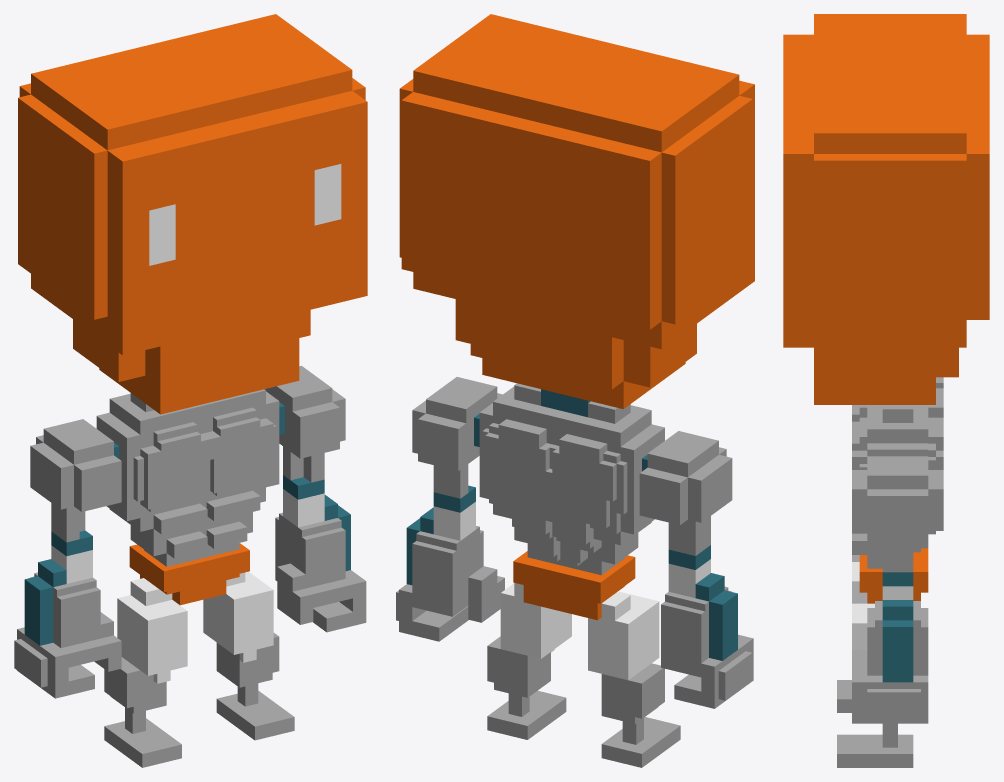
The model's file is PlayerOrangeWhole-0-PlayerOrange_Whole.obj.
The picture shows the model from 3 angles, left to right: view 1: azimuth 30°, elevation 25°; view 2: azimuth 150°, elevation 25°; view 3: azimuth 270°, elevation 25°; orthographic projection.
Parts seen in each view (by area): view 1: PlayerOrange_Whole; view 2: PlayerOrange_Whole; view 3: PlayerOrange_Whole.
Boxes of the visible parts, left/top/right/bottom form: PlayerOrange_Whole: left=14, top=14, right=367, bottom=767; PlayerOrange_Whole: left=396, top=14, right=754, bottom=767; PlayerOrange_Whole: left=783, top=14, right=989, bottom=767.
Size of the model in its own units: 4.9 by 9.5 by 2.7.
1 material, 1 textured.
